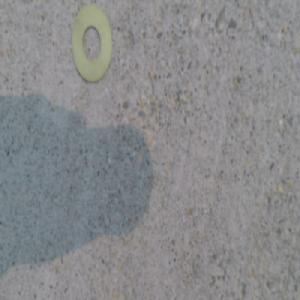Washer: (71, 8, 113, 85)
